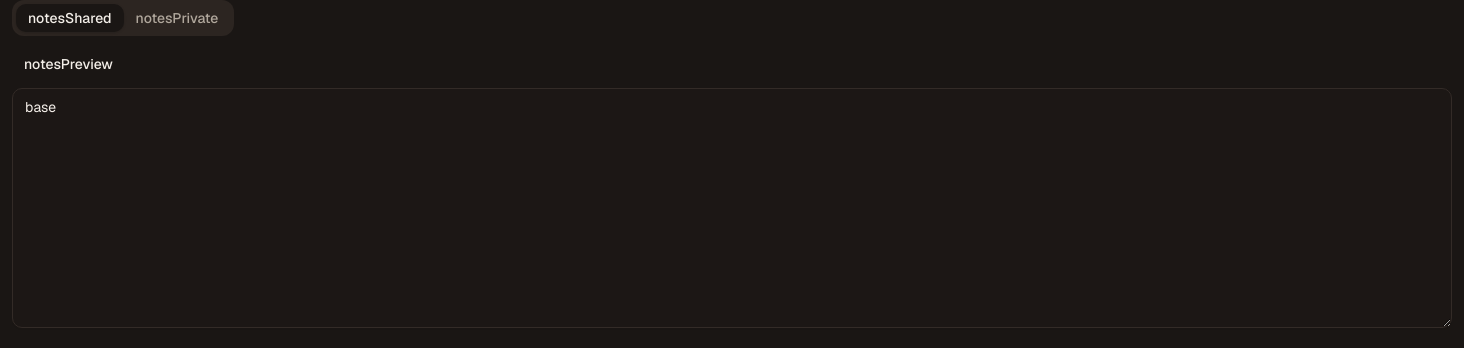
Test: NotesEditor › autosaves 2 seconds after typing stops
Type "!" into the text box named "notesShared" at coordinates (732, 208), box [12, 88, 1452, 328]
Wait 2000 ms
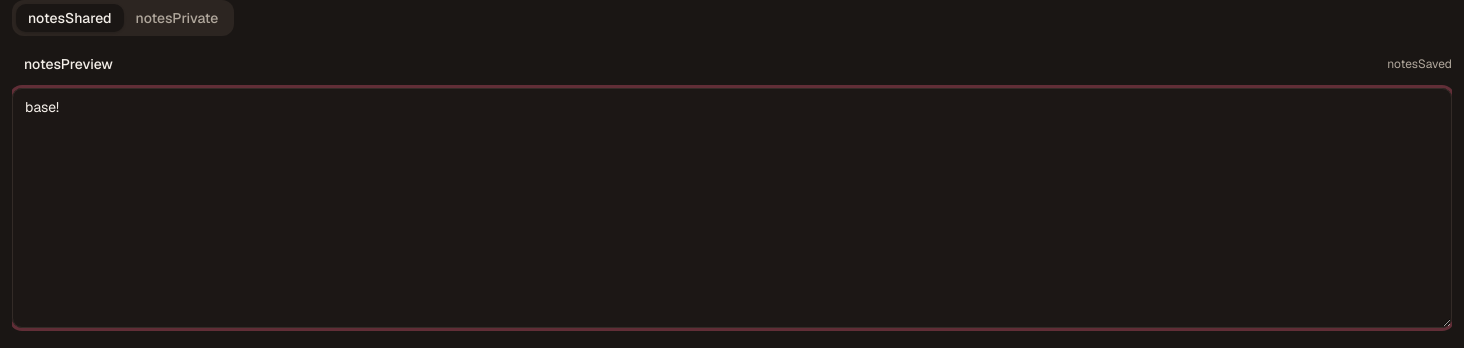
Check: the text "notesSaved" is shown, box [1387, 56, 1452, 72]
